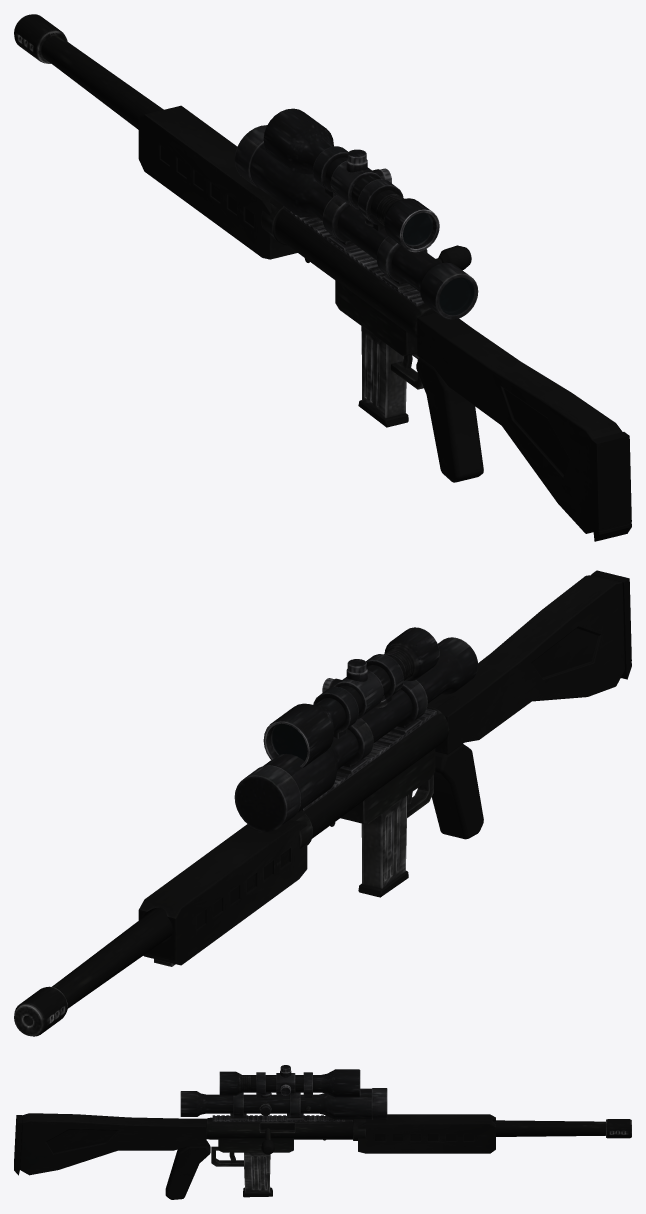
File: sniper.glb
The picture shows the model from 3 angles, top to bottom: view 1: azimuth 30°, elevation 25°; view 2: azimuth 150°, elevation 25°; view 3: azimuth 270°, elevation 25°; orthographic projection. The views are drawn at different scales.
Parts seen in each view (by area): view 1: body, scope_4x, magazine, sc_lens_f, sc_lens_r; view 2: body, scope_4x, magazine, sc_lens_r; view 3: body, scope_4x, magazine, body_bolt.
Part boxes in pixels (<box>): body: <box>14,14,631,541</box>; scope_4x: <box>263,108,439,252</box>; magazine: <box>358,326,408,427</box>; sc_lens_f: <box>439,278,474,315</box>; sc_lens_r: <box>403,213,432,245</box>; body: <box>14,570,631,1036</box>; scope_4x: <box>263,627,439,767</box>; magazine: <box>358,796,408,897</box>; sc_lens_r: <box>271,724,307,760</box>; body: <box>14,1088,631,1199</box>; scope_4x: <box>219,1065,360,1111</box>; magazine: <box>243,1152,272,1197</box>; body_bolt: <box>260,1105,274,1154</box>.
Bounding box in the file's own units: 0.14 × 0.2724 × 1.17.
Materials: 4 (2 with a texture image).
